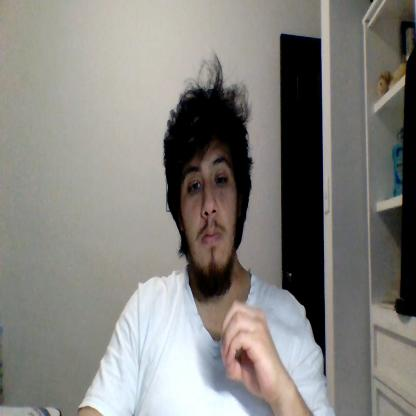O: (220, 302, 277, 401)
